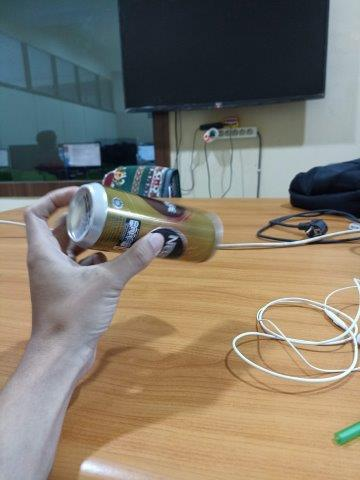kaleng: (67, 182, 224, 262)
